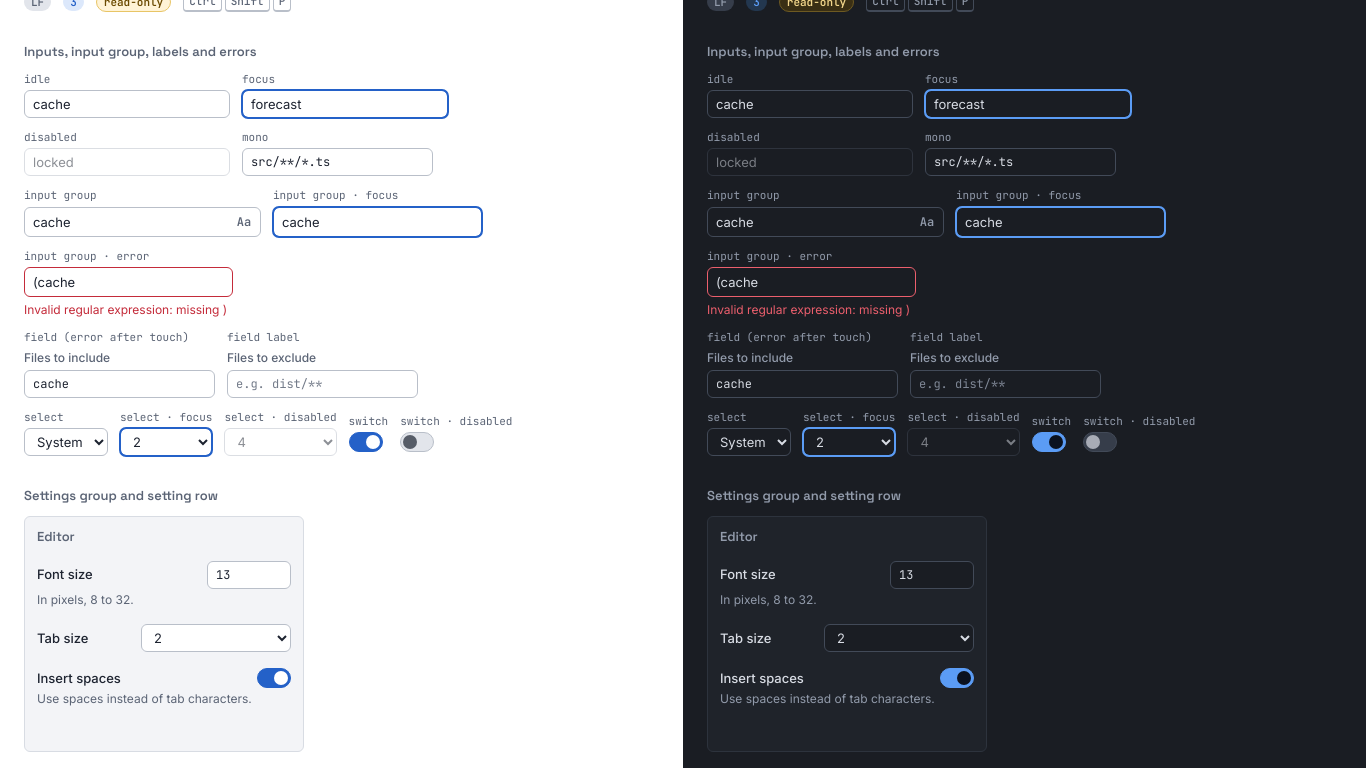
Test case: UI kit gallery › shows a field error only after the field was touched
The width and height of the screenshot is (1366, 768).
(page scrolled)
Clear the 1st field labelled "Files to include": (120, 384) [24,370,215,398]
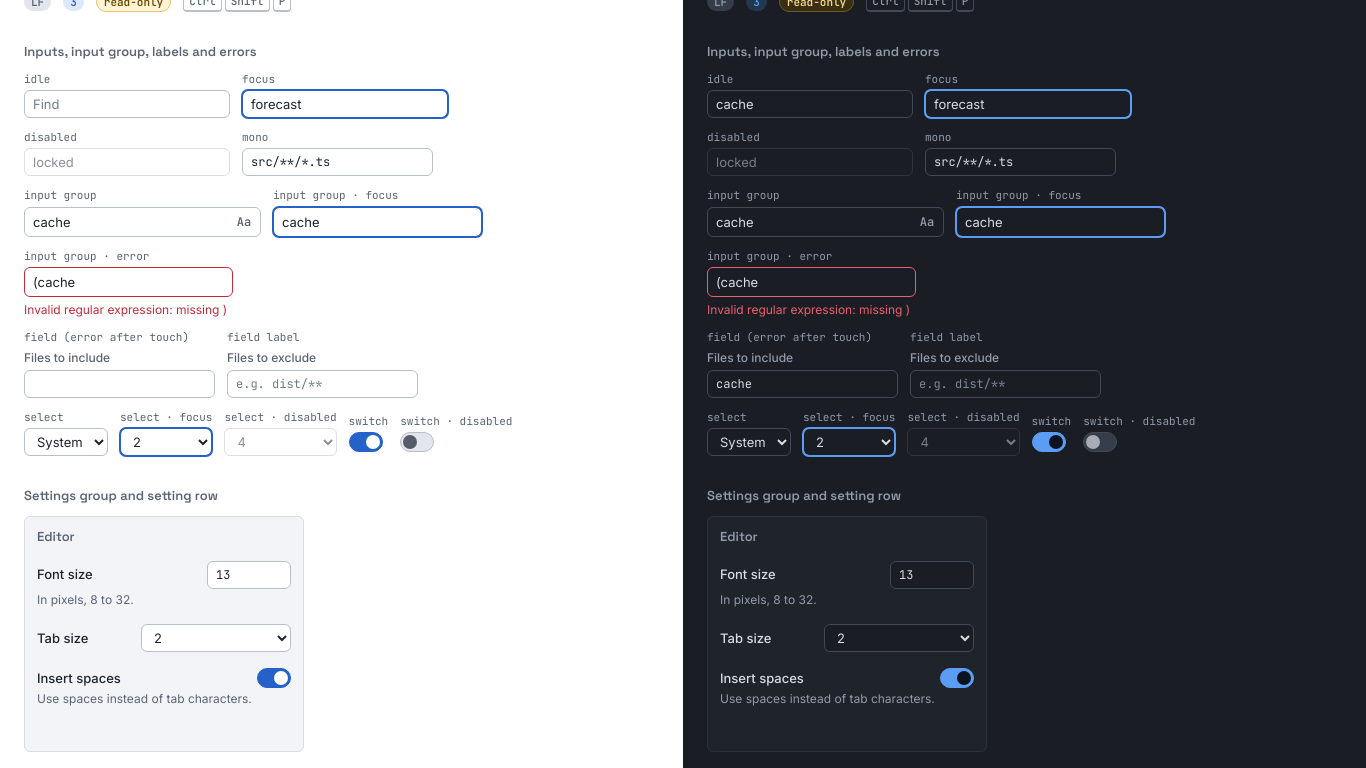
Expected: the text "Enter a pattern." is not shown
Leave the 1st field labelled "Files to include", box [24,370,215,398]
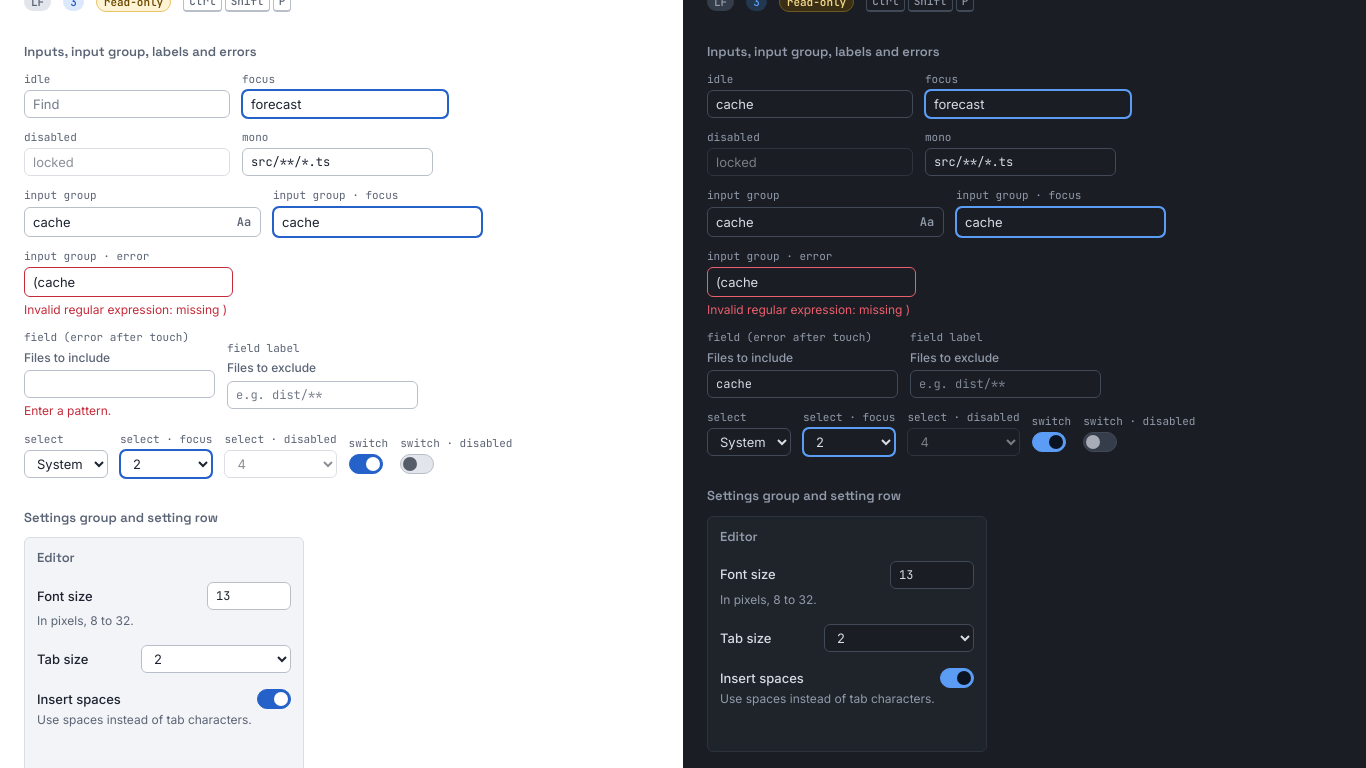
Now the text "Enter a pattern." is shown, box [24,403,111,418]
